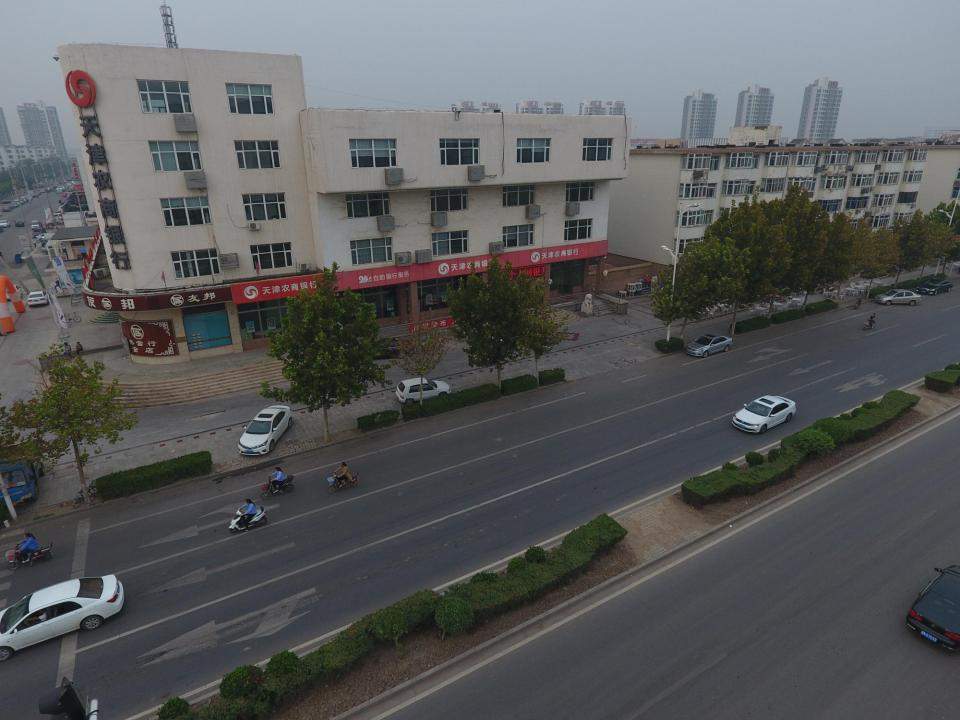car: (0, 574, 126, 658), (902, 561, 960, 651), (236, 404, 294, 456), (731, 391, 797, 436), (394, 374, 451, 404), (685, 334, 731, 359), (918, 272, 954, 297), (876, 288, 920, 308)
truck: (0, 430, 48, 504)
